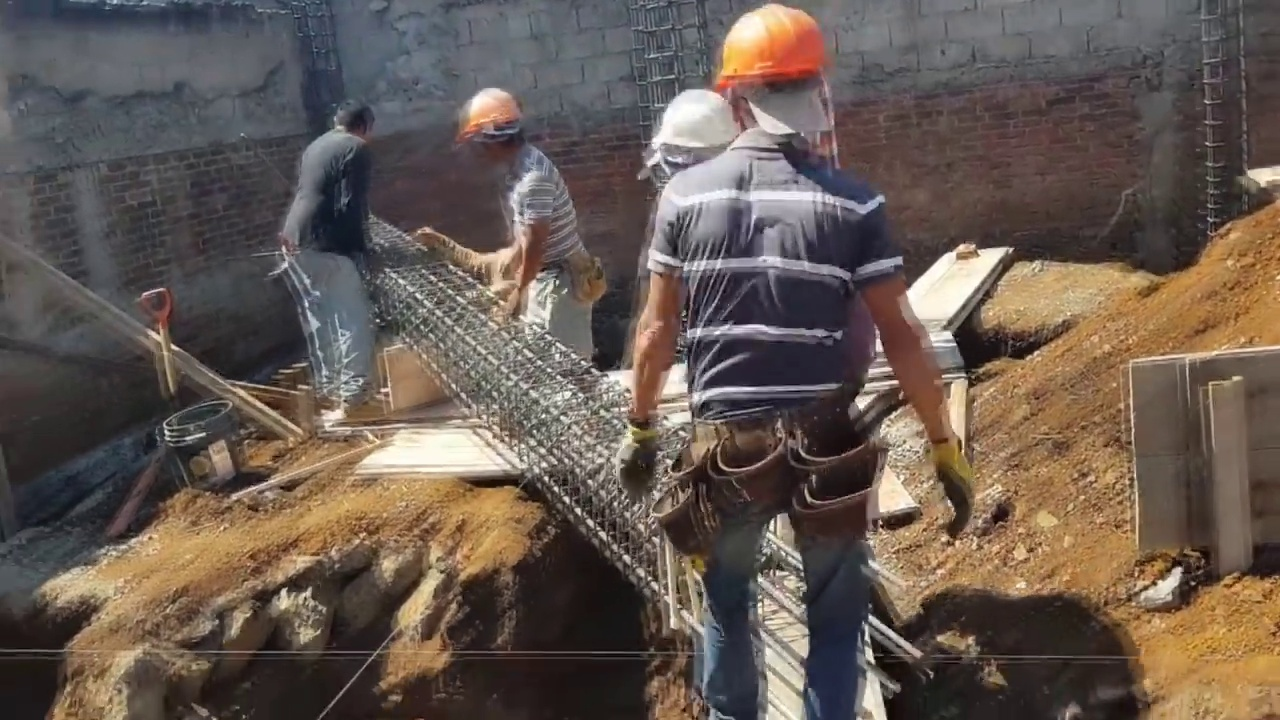helmet: (708, 4, 834, 94), (647, 87, 738, 152), (448, 85, 518, 144)
helmet-off: (328, 98, 372, 142)
helmet-on: (710, 4, 838, 159), (646, 80, 740, 185), (449, 82, 531, 167)
person: (612, 23, 947, 699), (442, 79, 592, 375), (277, 81, 375, 444)
